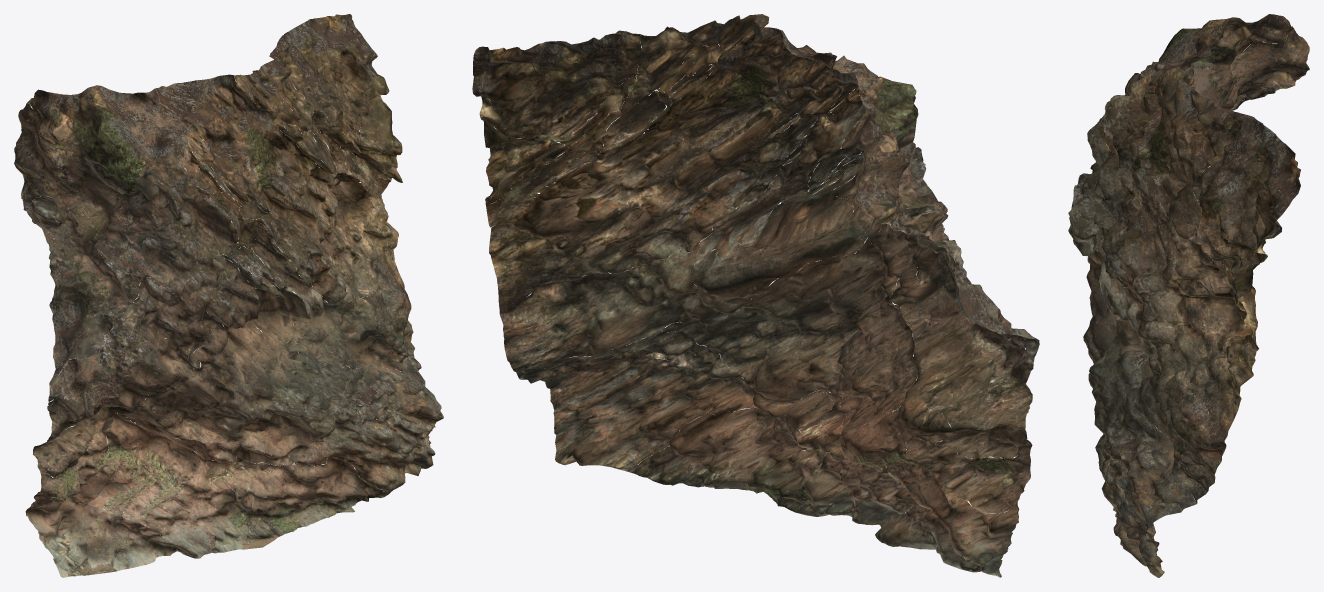
Rendered from mountainside.fbx.
3 renders of one model, left to right at view 1: azimuth 30°, elevation 25°; view 2: azimuth 150°, elevation 25°; view 3: azimuth 270°, elevation 25°, orthographic. The views are drawn at different scales.
Visible parts, largest first — view 1: mountainside; view 2: mountainside; view 3: mountainside.
Boxes of the visible parts, x1=… form: mountainside: x1=14, y1=14, x2=443, y2=577; mountainside: x1=472, y1=14, x2=1039, y2=577; mountainside: x1=1068, y1=14, x2=1309, y2=577.
Bounding box in the file's own units: 10.21 × 10.53 × 5.25.
1 material, 1 textured.
